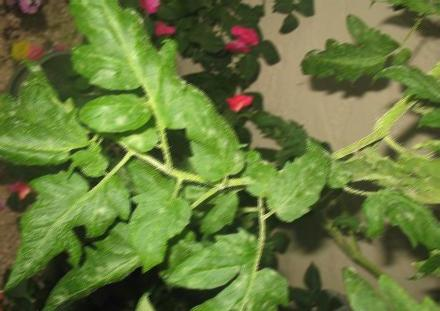Tomato mold leaf: (3, 161, 133, 293), (132, 231, 294, 311), (61, 0, 192, 95), (0, 65, 80, 165), (180, 82, 252, 179), (357, 186, 440, 252), (267, 143, 332, 224), (337, 268, 440, 311), (75, 92, 155, 141)
